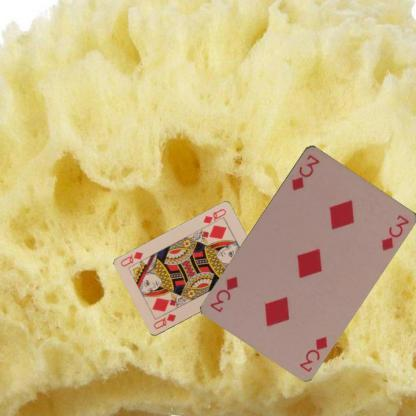3d: (288, 151, 322, 192), (296, 332, 329, 374)
Qd: (200, 206, 228, 230), (151, 312, 177, 330)
